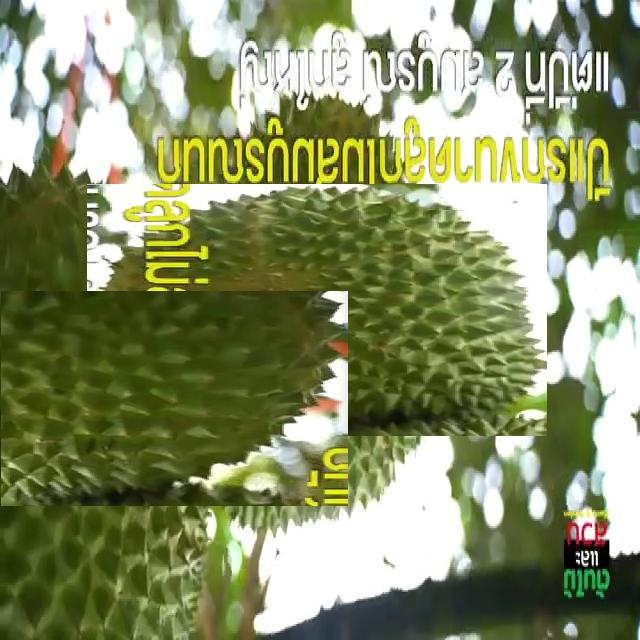durian: (138, 132, 495, 488), (0, 225, 283, 572)
